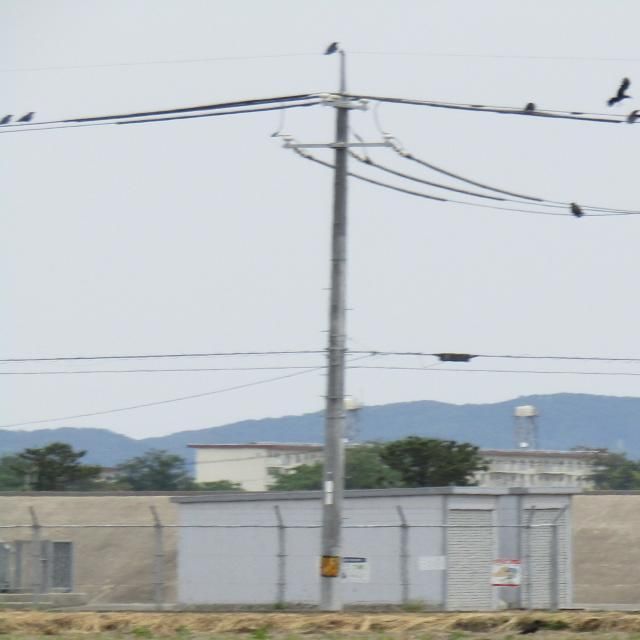pole: (280, 34, 414, 622)
